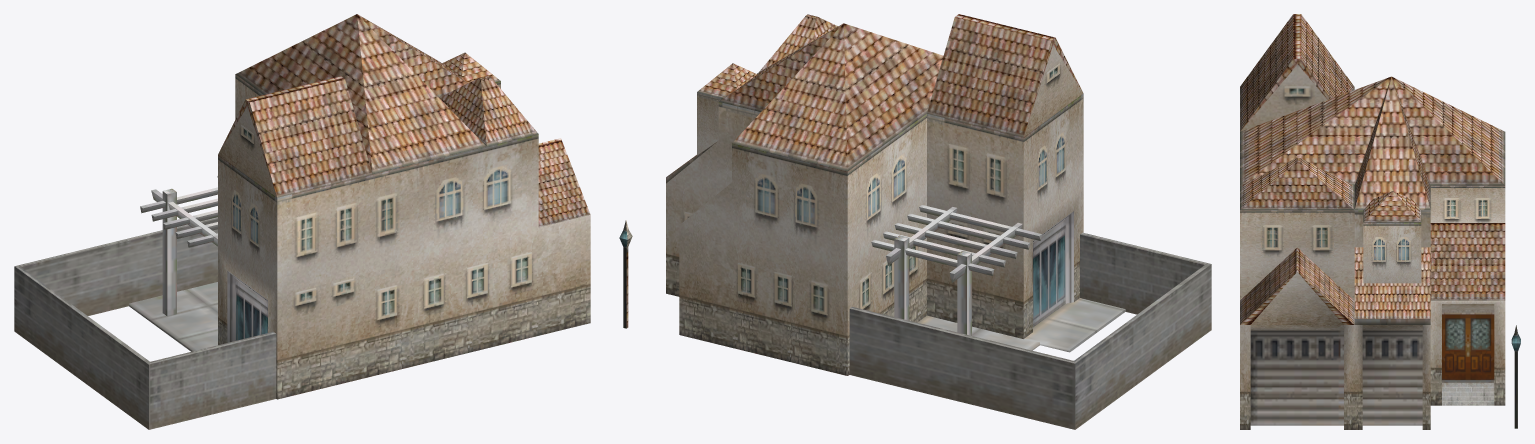
The model's file is USA - Base Building - Home 01 - CMAMHOME1.glb.
The picture shows the model from 3 angles, left to right: view 1: azimuth 30°, elevation 25°; view 2: azimuth 150°, elevation 25°; view 3: azimuth 270°, elevation 25°; orthographic projection. The views are drawn at different scales.
Parts seen in each view (by area): view 1: CMAMHOME1; view 2: CMAMHOME1; view 3: CMAMHOME1.
Boxes of the visible parts, <box> form: CMAMHOME1: <box>14,14,590,429</box>; CMAMHOME1: <box>619,14,1211,429</box>; CMAMHOME1: <box>1240,14,1520,429</box>.
Bounding box in the file's own units: 102 × 63.92 × 58.07.
1 material, 1 textured.
